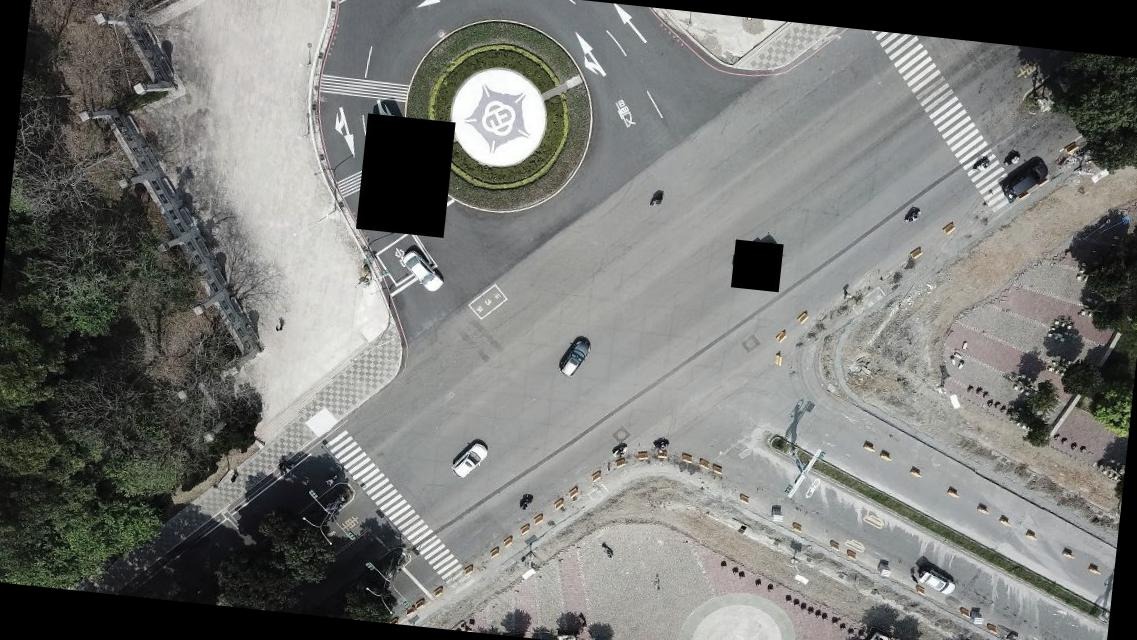vehicle: (399, 250, 448, 294), (1001, 159, 1048, 204), (449, 438, 491, 482), (558, 334, 594, 378), (916, 565, 957, 595)
